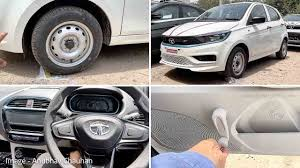Tiago: (157, 2, 289, 79)
